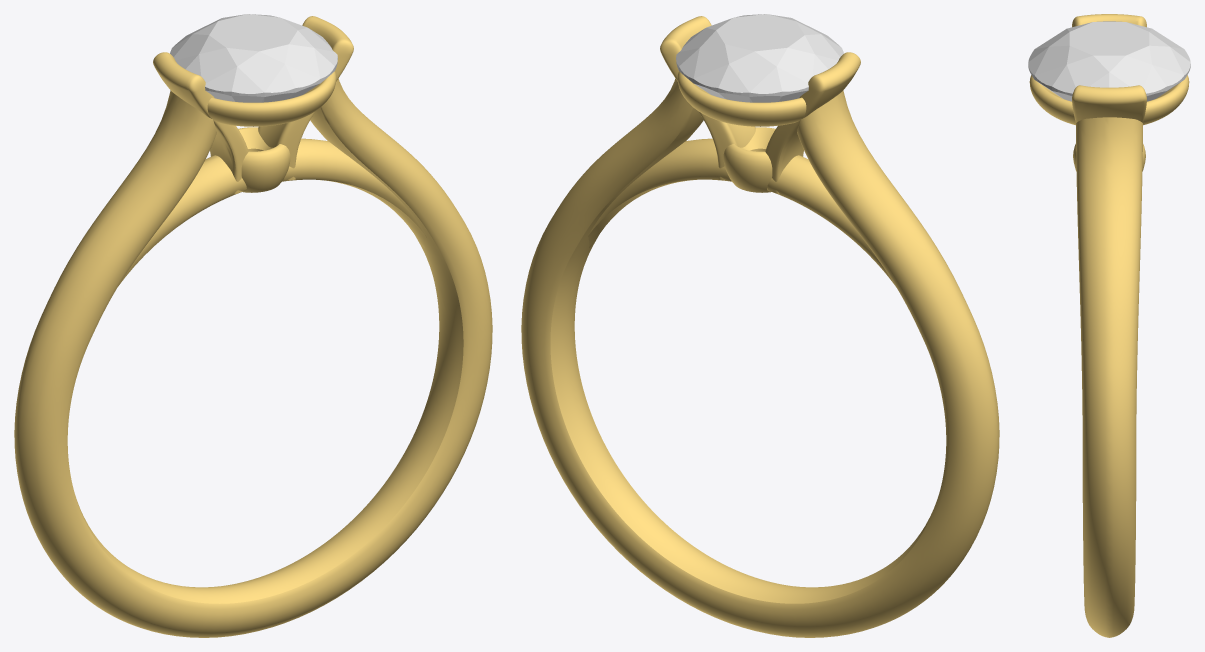
The model's file is PaulaNewhalfmoon_blender.glb.
3 views of the same model, side by side, from view 1: azimuth 30°, elevation 25°; view 2: azimuth 150°, elevation 25°; view 3: azimuth 270°, elevation 25° (orthographic). The views are drawn at different scales.
Visible parts, largest first — view 1: v3 Paula YG for 3d model, v3 Paula dia for 3d model; view 2: v3 Paula YG for 3d model, v3 Paula dia for 3d model; view 3: v3 Paula YG for 3d model, v3 Paula dia for 3d model.
Boxes of the visible parts, bbox=[...] form: v3 Paula YG for 3d model: bbox=[14, 16, 492, 637]; v3 Paula dia for 3d model: bbox=[170, 14, 337, 126]; v3 Paula YG for 3d model: bbox=[521, 16, 999, 637]; v3 Paula dia for 3d model: bbox=[676, 14, 843, 126]; v3 Paula YG for 3d model: bbox=[1029, 14, 1189, 637]; v3 Paula dia for 3d model: bbox=[1028, 21, 1190, 101].
Size of the model in its own units: 19.5 by 23.56 by 6.03.
